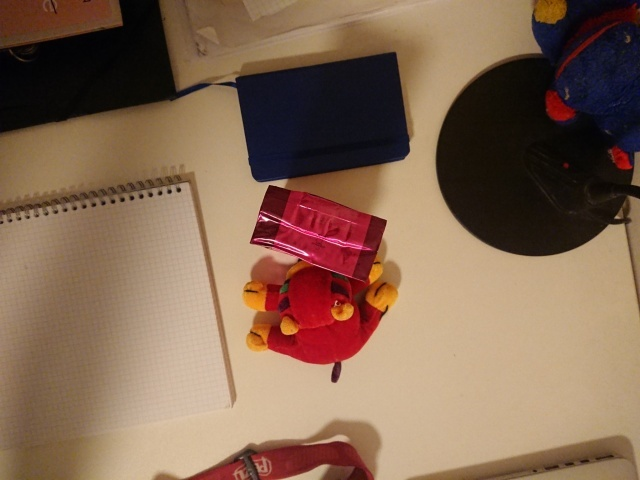Barcaffe Classic Original 225g: (247, 183, 389, 287)
